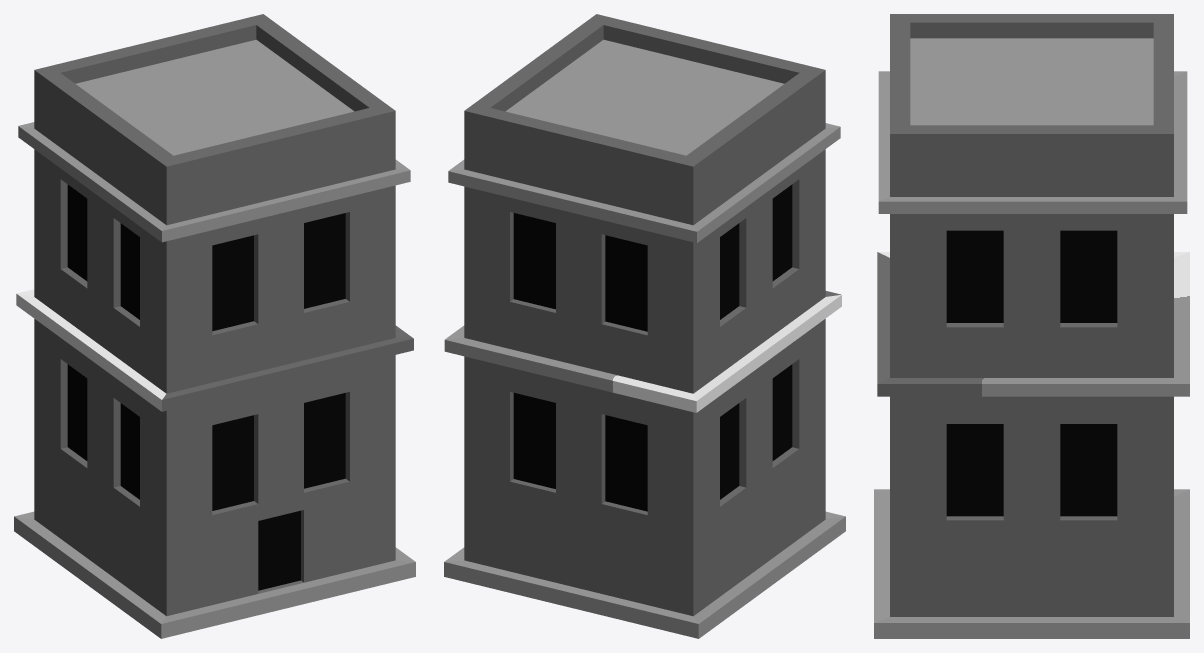
Rendered from Building.fbx.
3 views of the same model, side by side, from view 1: azimuth 30°, elevation 25°; view 2: azimuth 150°, elevation 25°; view 3: azimuth 270°, elevation 25° (orthographic). The views are drawn at different scales.
Visible parts, largest first — view 1: Bulding; view 2: Bulding; view 3: Bulding.
Part boxes in pixels (x1,y1,x2,y2): Bulding: [14, 14, 415, 638]; Bulding: [444, 14, 845, 638]; Bulding: [874, 14, 1189, 638].
Size of the model in its own units: 1739 by 3025 by 1739.
